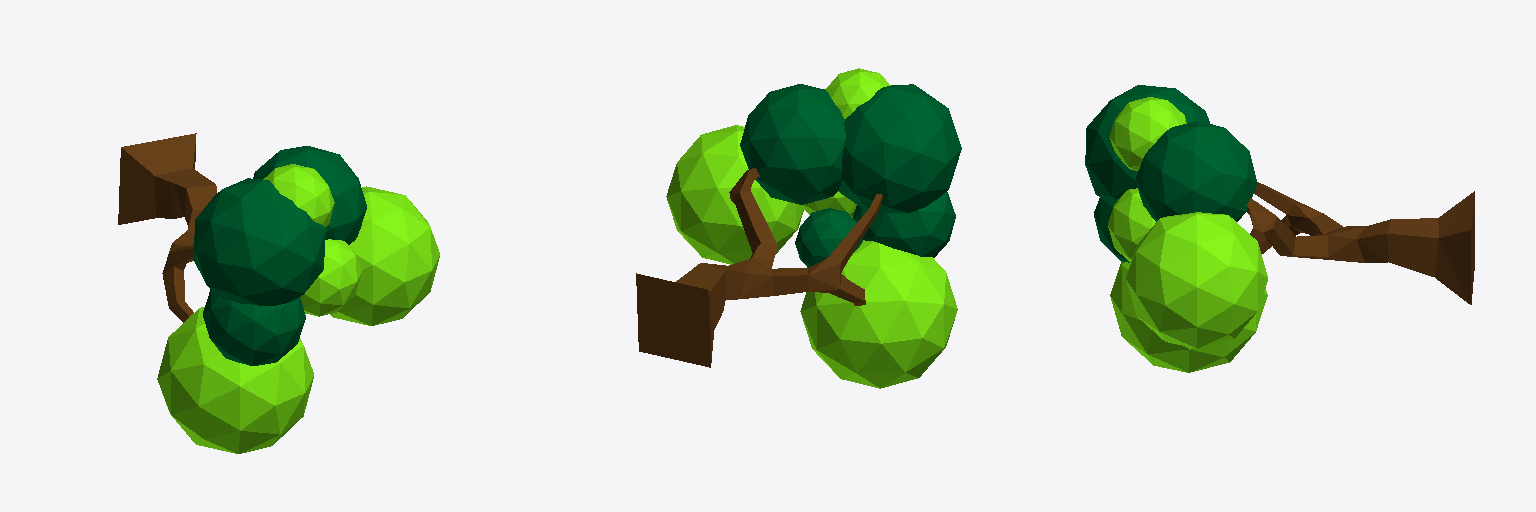
3 views of the same model, side by side, from view 1: azimuth 30°, elevation 25°; view 2: azimuth 150°, elevation 25°; view 3: azimuth 270°, elevation 25° (orthographic).
Visible parts, largest first — view 1: Icosphere.008; view 2: Icosphere.008; view 3: Icosphere.008.
Part boxes in pixels (x1,y1,x2,y2): Icosphere.008: (118,133,439,453); Icosphere.008: (636,68,961,388); Icosphere.008: (1085,85,1474,372).
Size of the model in its own units: 4.6 by 4.81 by 5.94.
Materials: 4 (3 with a texture image).